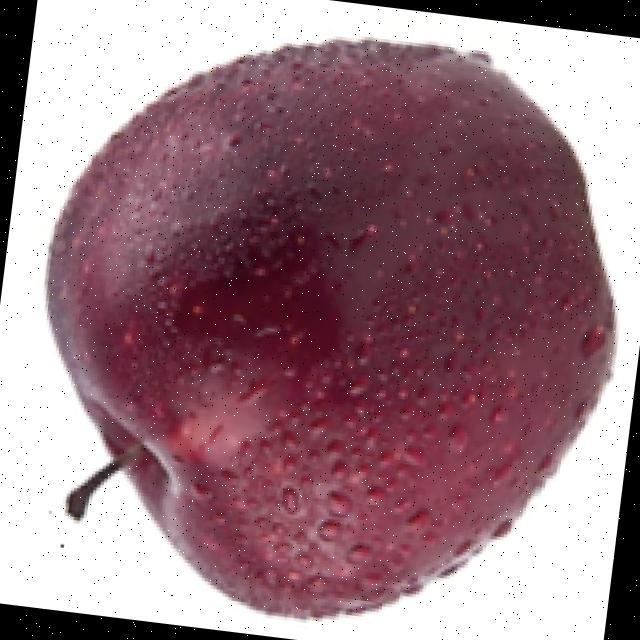apple: (39, 35, 620, 626)
